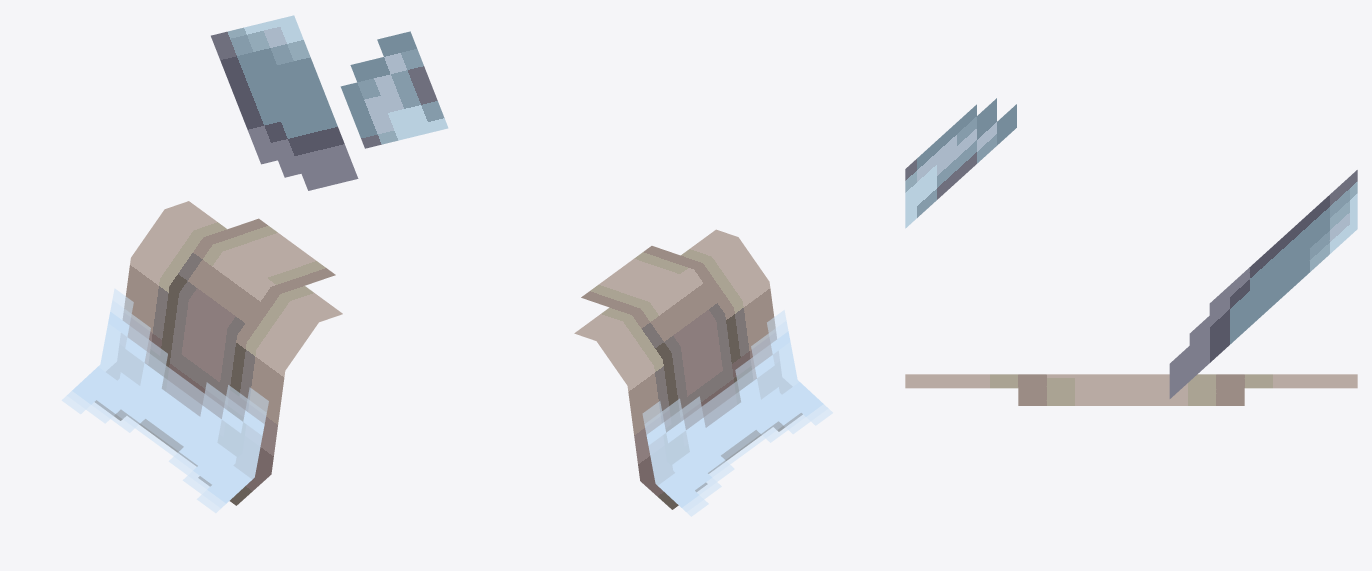
3 views of the same model, side by side, from view 1: azimuth 30°, elevation 25°; view 2: azimuth 150°, elevation 25°; view 3: azimuth 270°, elevation 25° (orthographic). The views are drawn at different scales.
Bounding box in the file's own units: 1.05 × 1.58 × 1.
Materials: 3 (3 with a texture image).
